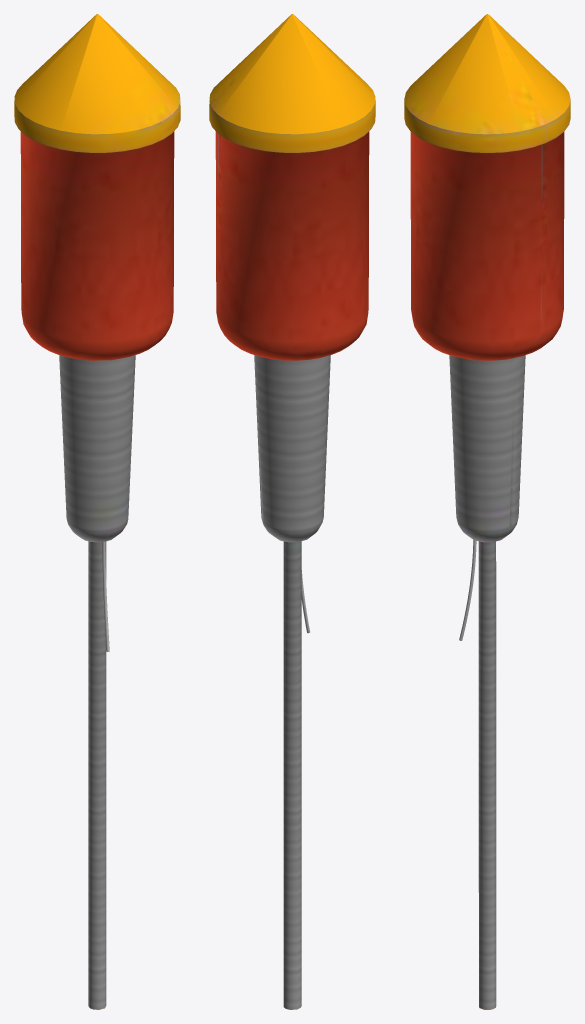
File: rocket.fbx
3 views of the same model, side by side, from view 1: azimuth 30°, elevation 25°; view 2: azimuth 150°, elevation 25°; view 3: azimuth 270°, elevation 25° (orthographic).
Parts seen in each view (by area): view 1: defaultMaterial; view 2: defaultMaterial; view 3: defaultMaterial.
Boxes of the visible parts, x1,y1,x2,y2 form: defaultMaterial: (14, 14, 180, 1009); defaultMaterial: (209, 14, 375, 1009); defaultMaterial: (404, 14, 570, 1009).
Bounding box in the file's own units: 6.1 × 40.06 × 6.1.
